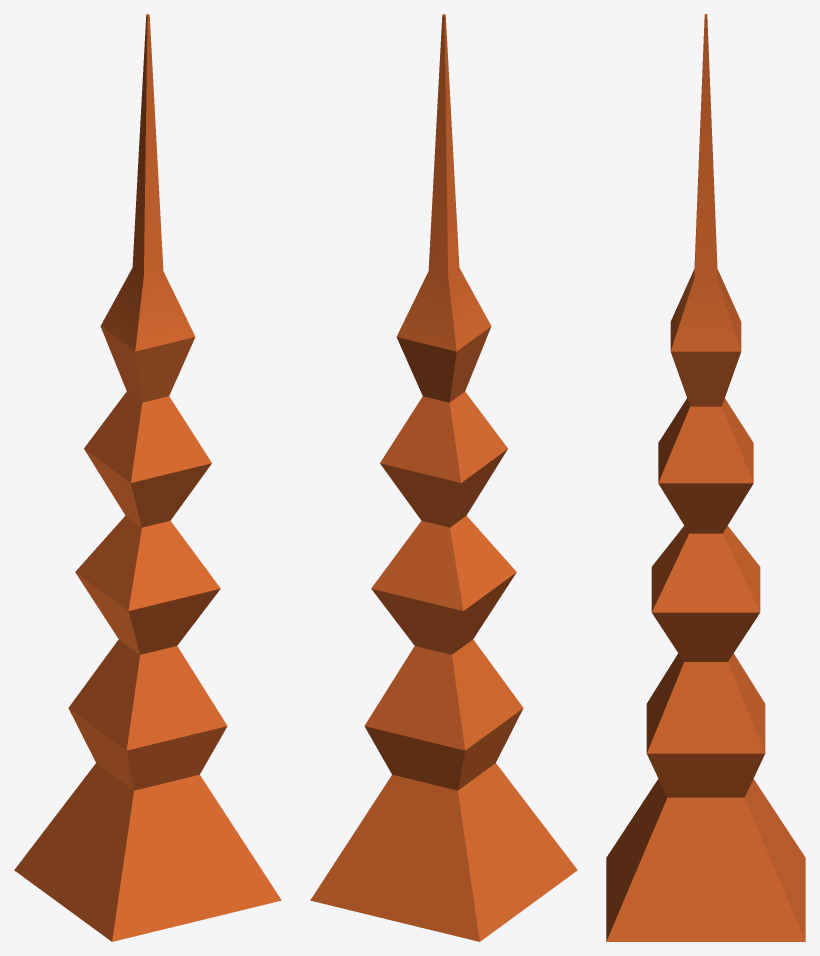
Rendered from GoldCrest.glb.
3 views of the same model, side by side, from view 1: azimuth 30°, elevation 25°; view 2: azimuth 150°, elevation 25°; view 3: azimuth 270°, elevation 25° (orthographic).
Parts seen in each view (by area): view 1: Cube; view 2: Cube; view 3: Cube.
Part boxes in pixels (left/top/right/bottom): Cube: left=14, top=14, right=281, bottom=941; Cube: left=310, top=14, right=577, bottom=941; Cube: left=606, top=14, right=805, bottom=941.
Bounding box in the file's own units: 3.74 × 18.32 × 3.74.
